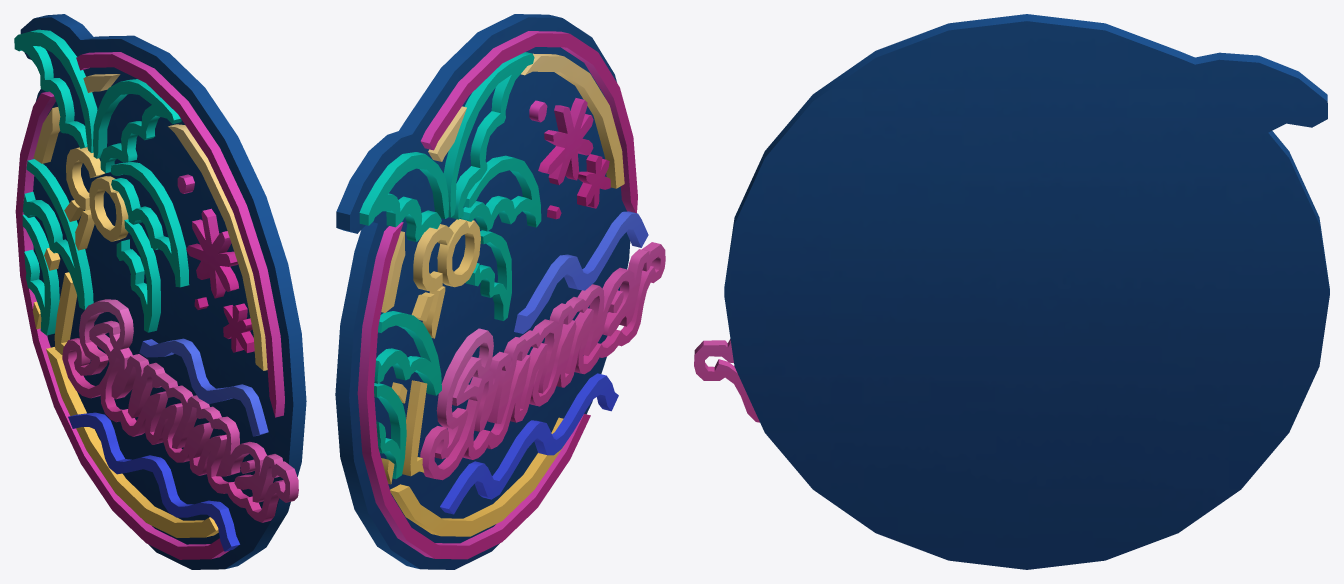
Rendered from my_poolparty_01_b_wall_acc_03.glb.
3 renders of one model, left to right at view 1: azimuth 30°, elevation 25°; view 2: azimuth 150°, elevation 25°; view 3: azimuth 270°, elevation 25°, orthographic. The views are drawn at different scales.
Parts seen in each view (by area): view 1: my_poolparty_01_b_wall_acc_03; view 2: my_poolparty_01_b_wall_acc_03; view 3: my_poolparty_01_b_wall_acc_03.
Boxes of the visible parts, x1=… form: my_poolparty_01_b_wall_acc_03: x1=14, y1=14, x2=306, y2=569; my_poolparty_01_b_wall_acc_03: x1=335, y1=14, x2=665, y2=569; my_poolparty_01_b_wall_acc_03: x1=694, y1=14, x2=1329, y2=569.
Size of the model in its own units: 0.000721 by 0.00924 by 0.0097.
Materials: 1 (1 with a texture image).
